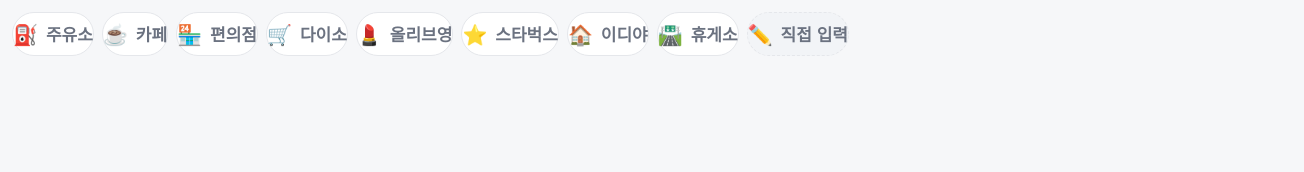
CategorySelect › 직접 입력 버튼 클릭 시 입력 모드 전환
Click the button with test id "custom-category-toggle": x=798, y=34 [747,12,849,56]
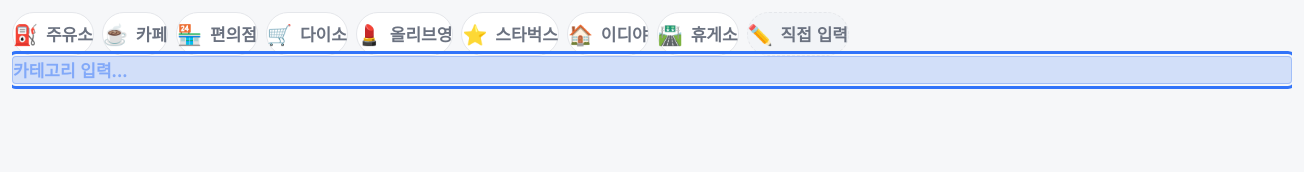
Expected: the field with placeholder "카테고리 입력..." is shown, [12,56,1292,84]
